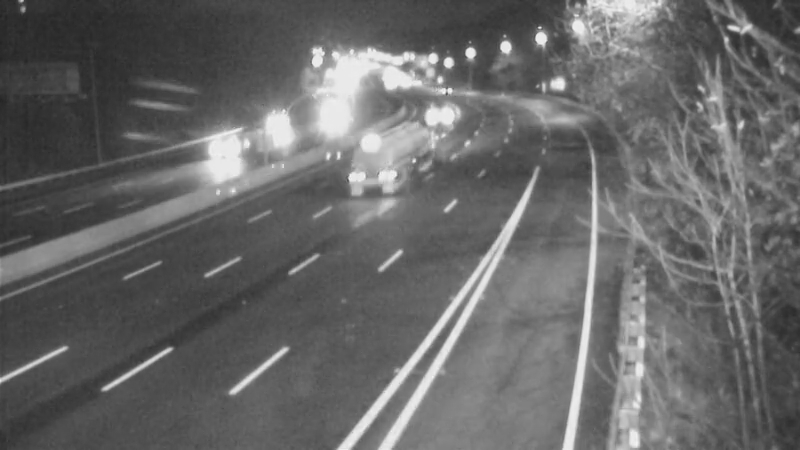vehicle: (324, 129, 404, 209), (175, 126, 255, 206), (407, 85, 457, 135), (235, 110, 285, 160), (309, 85, 359, 135)
